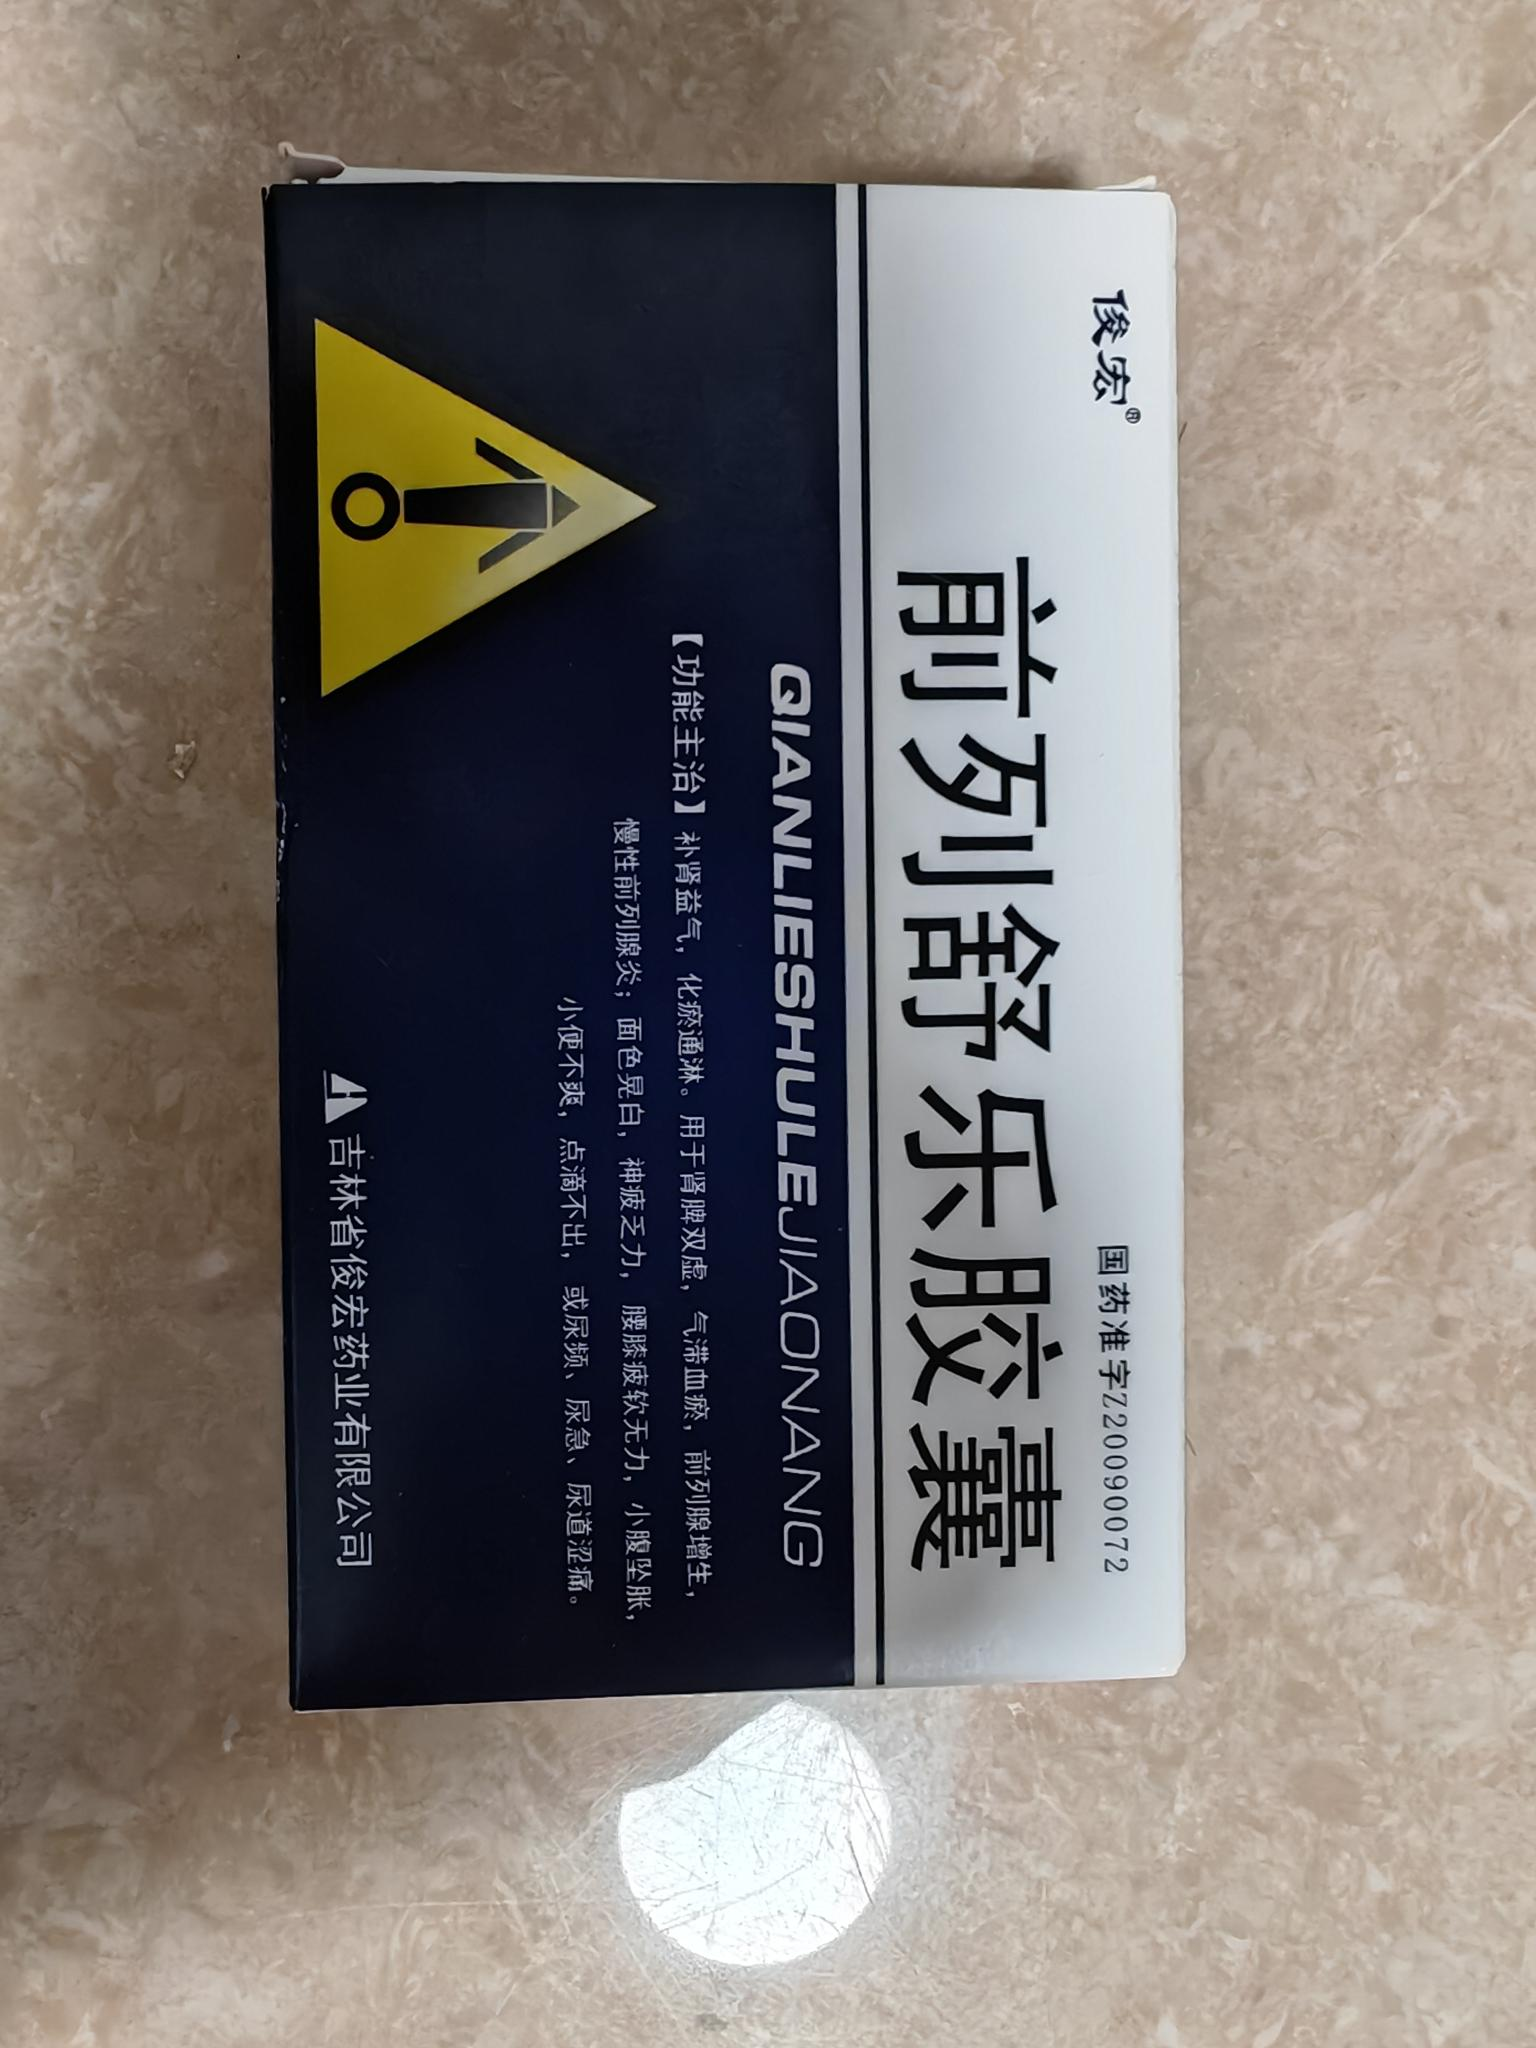Medicine2: (232, 132, 1212, 1725)
